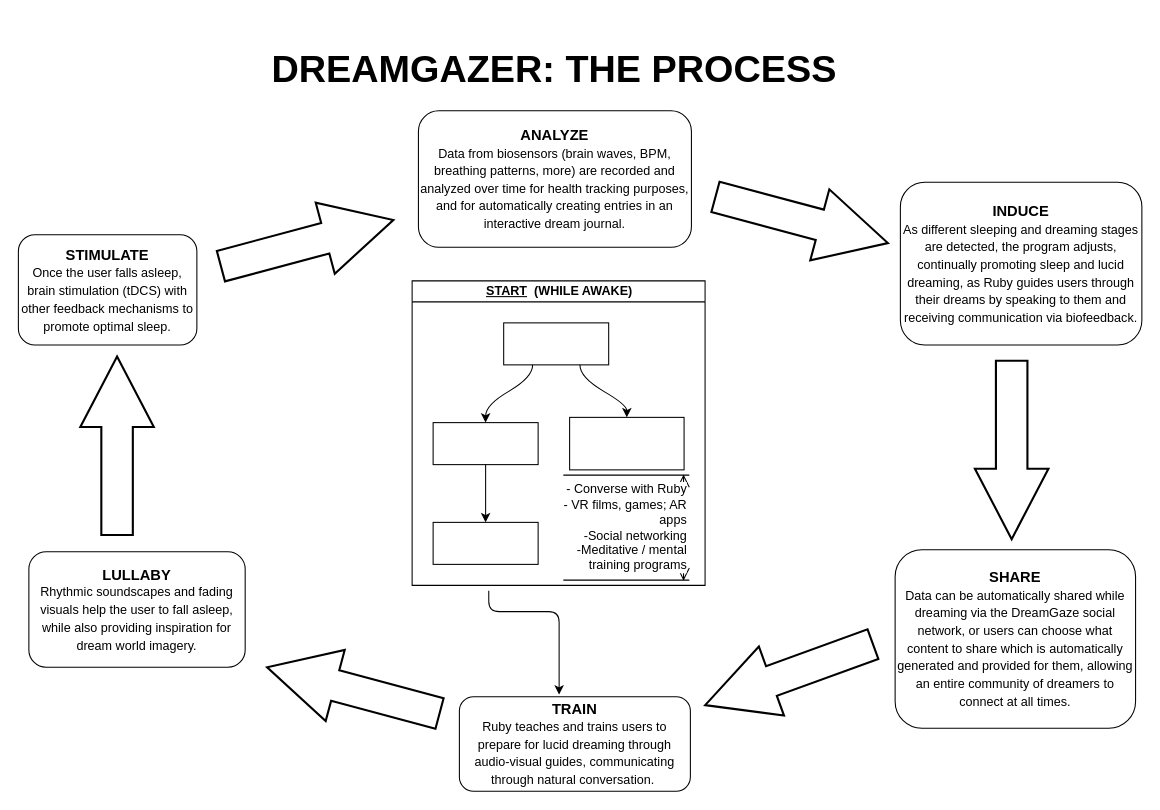
The diagram is 1160 pixels wide and 810 high, and some of its shapes have lost their labels. The box of each missing label's shape, as (x1, y1, x2, y2) in pixels:
Converse with Ruby: (432, 521, 538, 564)
Entertainment, meditation, brain training: (569, 416, 684, 470)
Sleeping & dreaming: (432, 422, 538, 465)
Start app, wear headset: (503, 322, 609, 365)
